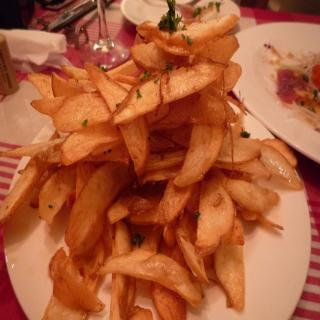French fries: (3, 12, 282, 320)
Potato: (0, 12, 304, 320)
